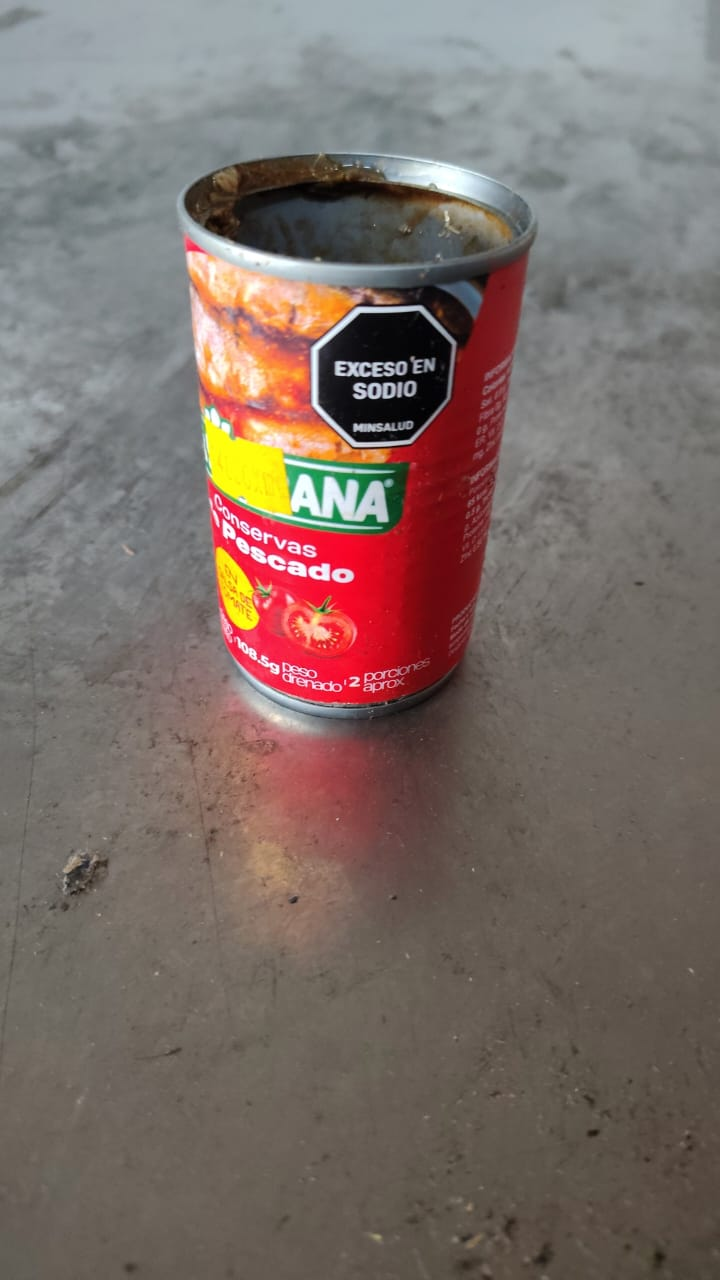Metal: (177, 148, 536, 719)
